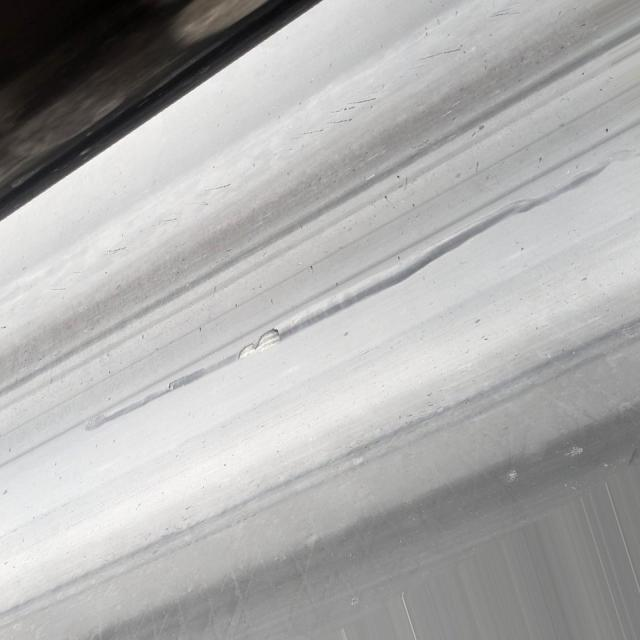Tear: (235, 319, 291, 367)
impact damage: (103, 197, 538, 429)
